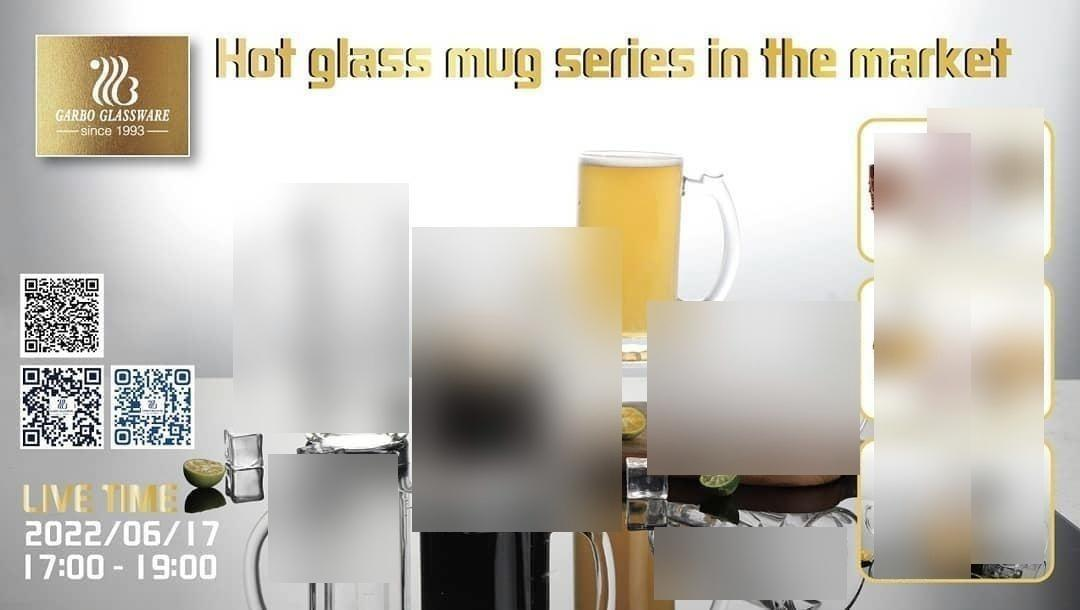glass-mug: (569, 147, 743, 372)
